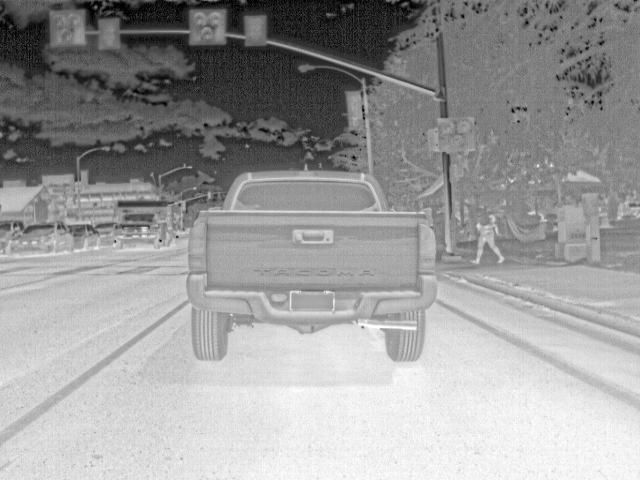car: (185, 169, 436, 362), (25, 221, 71, 256), (68, 222, 98, 250), (95, 222, 115, 250), (0, 220, 12, 232)
person: (468, 211, 505, 266), (2, 225, 21, 255)
